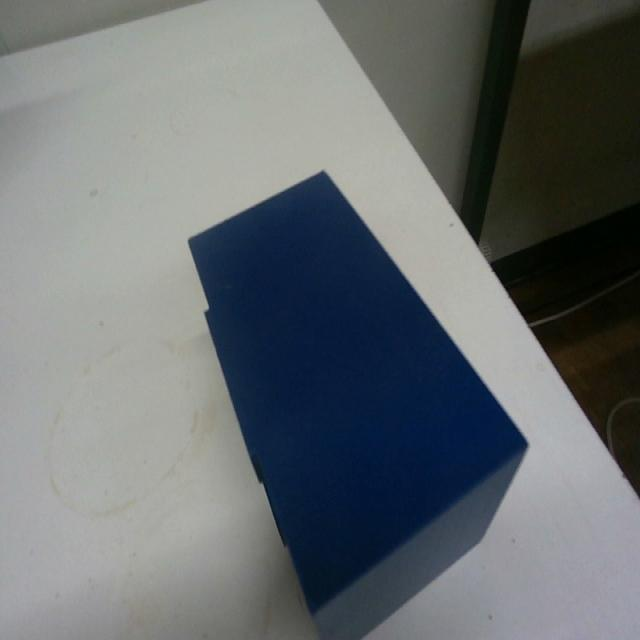Blue Cuboid: (185, 166, 529, 634)
